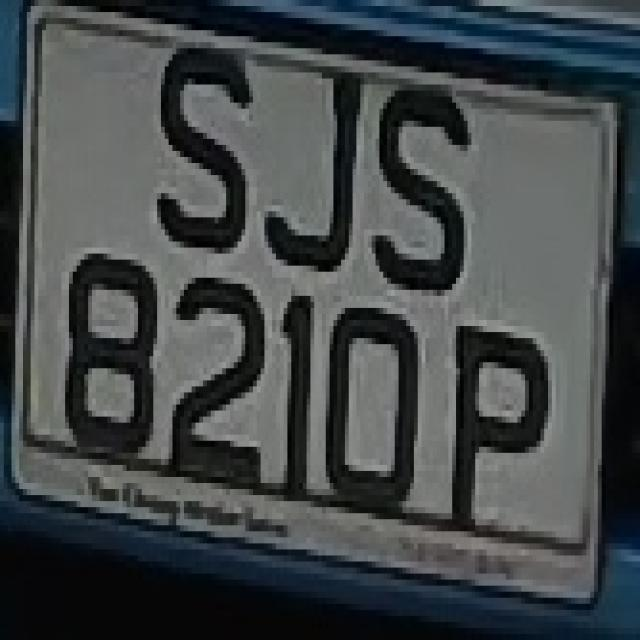0: (330, 302, 418, 531)
1: (264, 278, 322, 555)
2: (169, 248, 272, 501)
8: (62, 211, 154, 477)
J: (253, 48, 360, 278)
P: (456, 308, 552, 537)
S: (134, 30, 257, 248), (376, 54, 472, 326)
